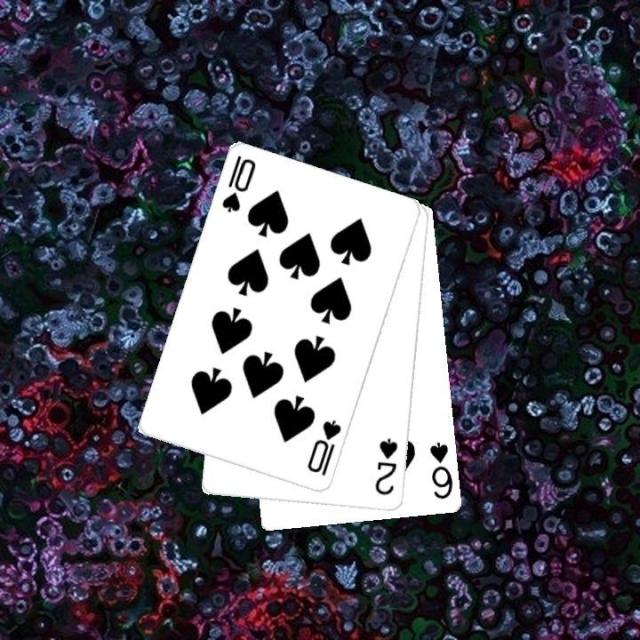10S: (218, 152, 258, 215), (303, 416, 343, 478)
2S: (372, 434, 400, 498)
6S: (427, 438, 455, 502)
